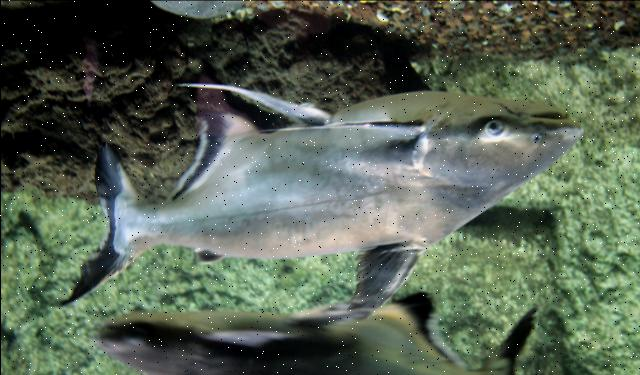Mulut: (488, 80, 610, 152)
Sirip Anal: (156, 74, 256, 209)
Sirip Dada: (224, 106, 440, 150)
Sirip Ekor: (46, 134, 152, 320)
Sirip Perut: (170, 60, 336, 136)
Sirip Punggung: (178, 230, 432, 328)
